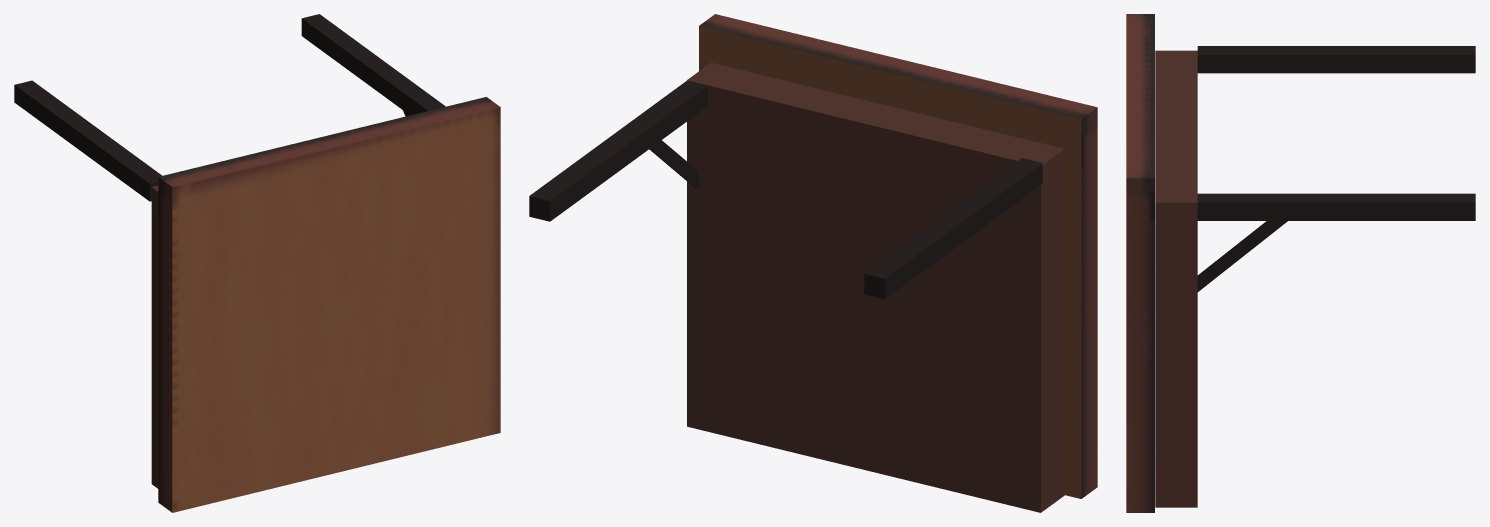
The model's file is section-3.obj.
3 renders of one model, left to right at view 1: azimuth 30°, elevation 25°; view 2: azimuth 150°, elevation 25°; view 3: azimuth 270°, elevation 25°, orthographic. The views are drawn at different scales.
Bounding box in the file's own units: 0.8976 × 0.8519 × 0.8068.
Materials: 1 (1 with a texture image).
